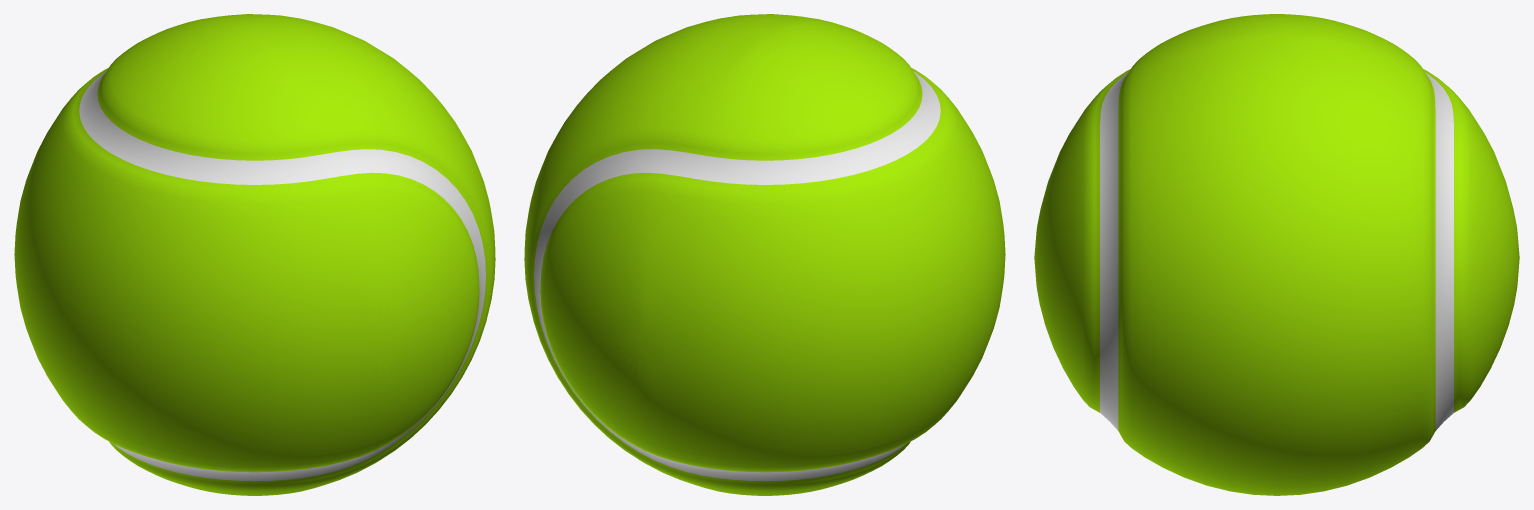
Rendered from uploads_files_2881168_TennisBall.fbx.
3 renders of one model, left to right at view 1: azimuth 30°, elevation 25°; view 2: azimuth 150°, elevation 25°; view 3: azimuth 270°, elevation 25°, orthographic.
Parts seen in each view (by area): view 1: Sphere; view 2: Sphere; view 3: Sphere.
Part boxes in pixels (x1,y1,x2,y2): Sphere: [14, 14, 495, 495]; Sphere: [524, 14, 1005, 495]; Sphere: [1034, 14, 1519, 495].
Size of what is drawn, in the model's own units: 197 by 199 by 199.
